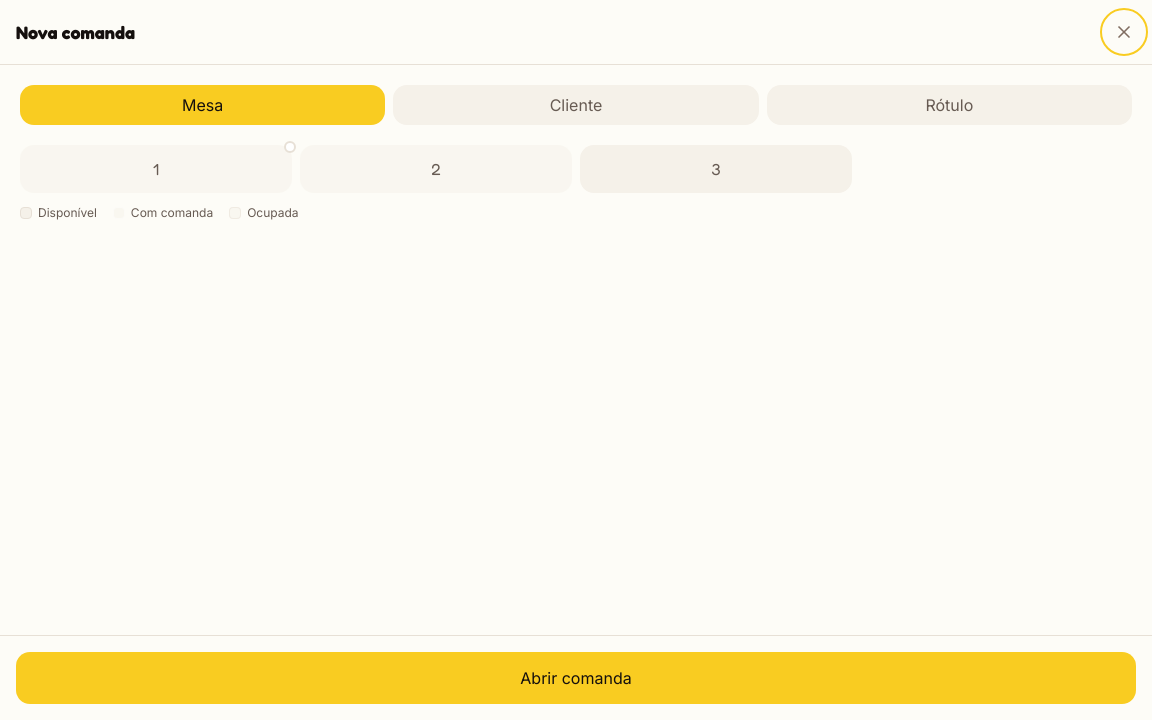
NewOrderModal › mostra 'Continuar comanda' quando mesa selecionada tem comanda aberta
Note: Clica na mesa 1 (que tem comanda aberta)
Step 1. Click the button "1" → (156, 169), box [20,145,292,193]
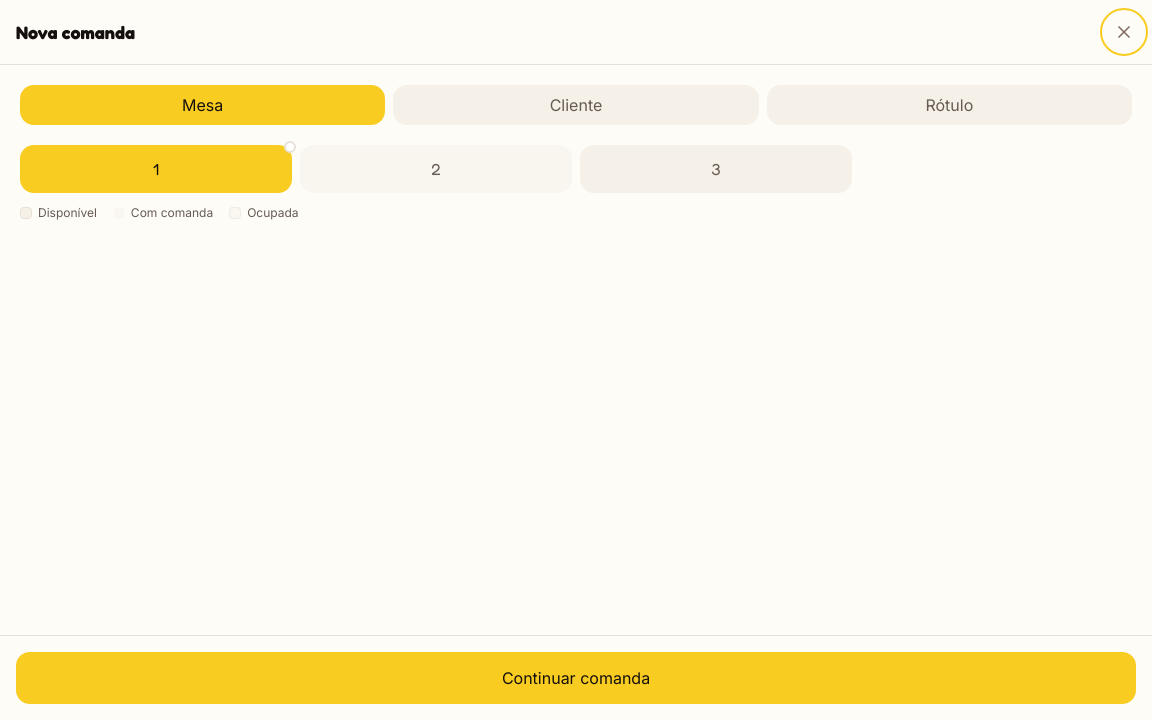
Result: the button "Continuar comanda" is shown at [16,652,1136,704]
